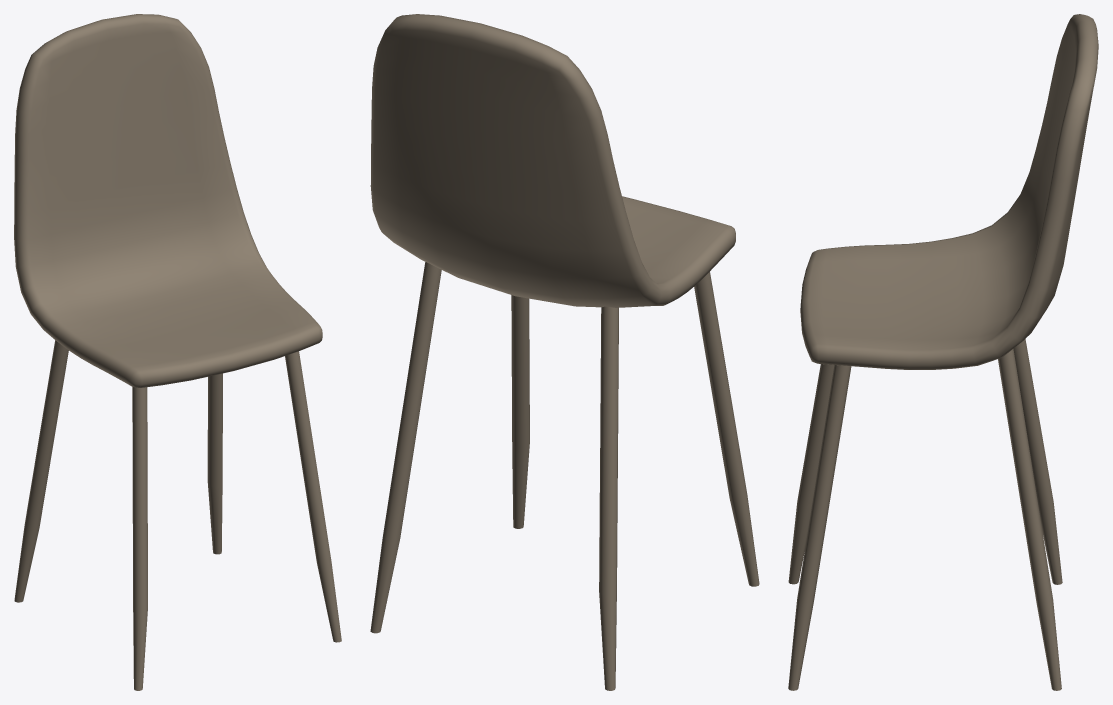
Rendered from Kitchen chair.fbx.
3 renders of one model, left to right at view 1: azimuth 30°, elevation 25°; view 2: azimuth 150°, elevation 25°; view 3: azimuth 270°, elevation 25°, orthographic. The views are drawn at different scales.
Visible parts, largest first — view 1: Chair; view 2: Chair; view 3: Chair.
Part boxes in pixels (x1,y1,x2,y2): Chair: [14, 14, 341, 690]; Chair: [370, 14, 759, 690]; Chair: [788, 14, 1098, 690].
Size of the model in its own units: 0.4623 by 1.06 by 0.4975.
